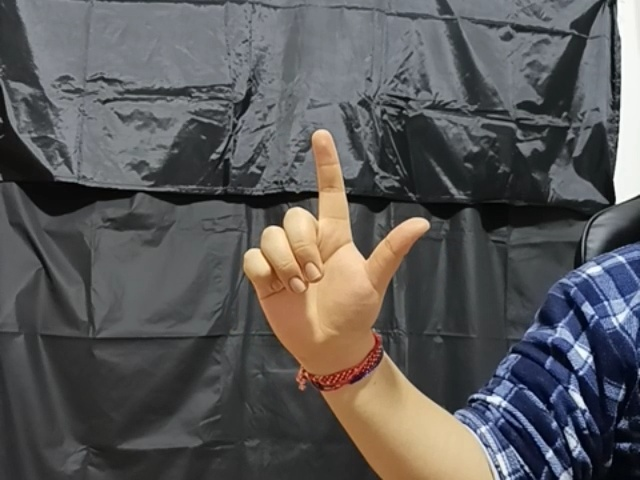L: (235, 128, 432, 354)
